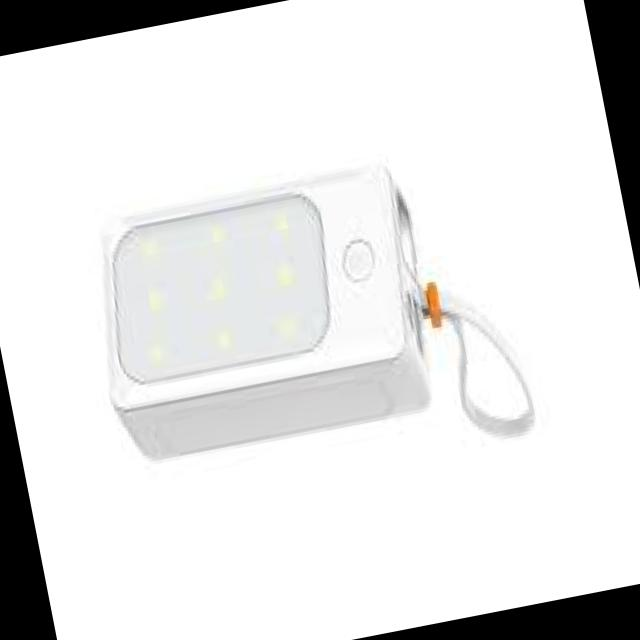power_bank: (77, 158, 450, 474)
